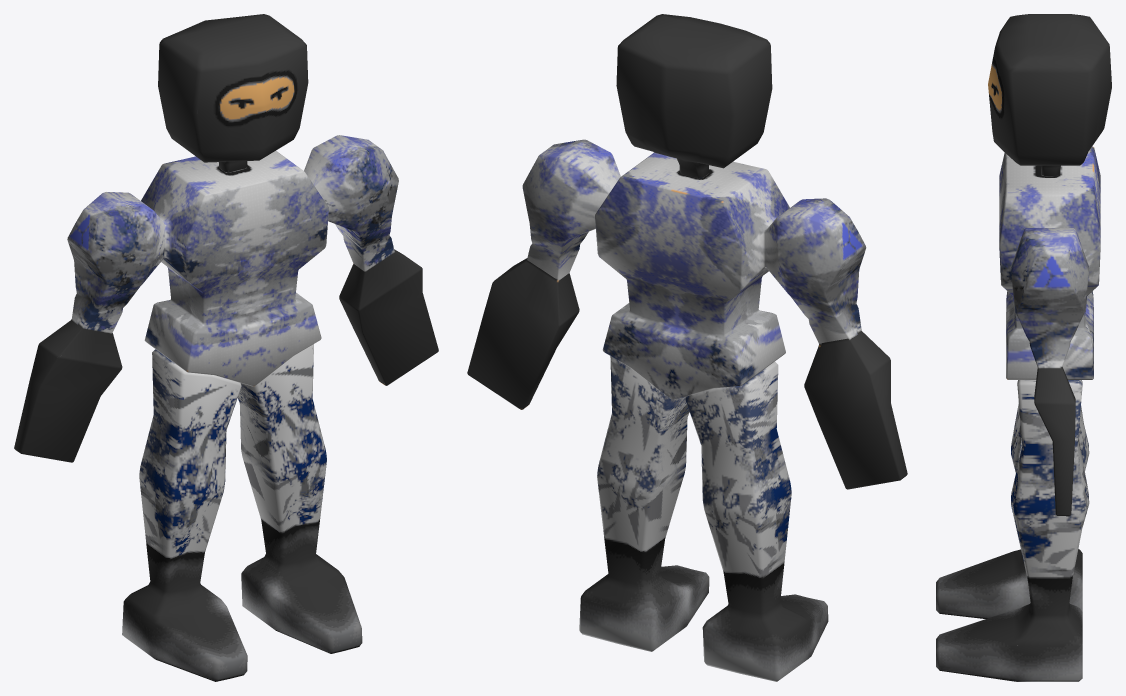
File: NormalEnemy.fbx
3 renders of one model, left to right at view 1: azimuth 30°, elevation 25°; view 2: azimuth 150°, elevation 25°; view 3: azimuth 270°, elevation 25°, orthographic. The views are drawn at different scales.
Parts seen in each view (by area): view 1: EnemyLegs_low; view 2: EnemyLegs_low; view 3: EnemyLegs_low.
Part boxes in pixels (x1=…): EnemyLegs_low: x1=14, y1=14, x2=438, y2=681; EnemyLegs_low: x1=467, y1=14, x2=907, y2=681; EnemyLegs_low: x1=936, y1=14, x2=1111, y2=681.
Bounding box in the file's own units: 611 × 826 × 219.
